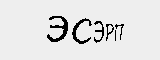С: (10, 24, 35, 47), (131, 23, 148, 39)
Х: (69, 32, 89, 49)
Ш: (89, 29, 112, 45)
Ю: (34, 25, 69, 49)
Ғ: (113, 26, 130, 43)
